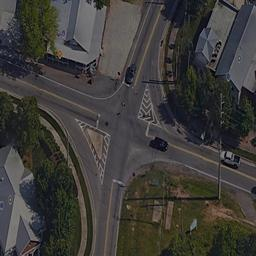Car: (218, 146, 242, 171), (122, 61, 138, 88), (150, 135, 167, 151)
Chevron: (74, 117, 114, 180), (136, 83, 170, 133)
Double Solid Yellow Line: (148, 135, 254, 178), (1, 69, 99, 114), (130, 1, 165, 88), (99, 180, 115, 256)
Stop Line: (143, 124, 152, 136), (93, 118, 98, 130), (114, 180, 125, 185)
